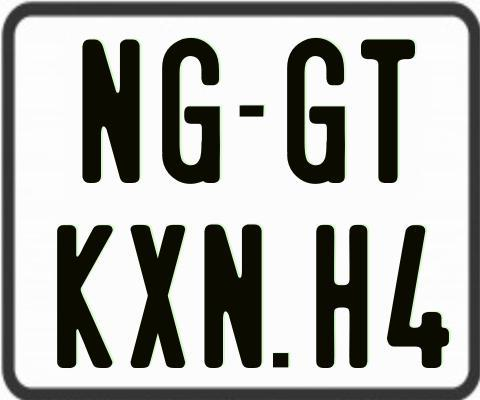4: (385, 222, 453, 370)
G: (162, 37, 222, 186), (286, 36, 346, 183)
H: (313, 225, 364, 371)
K: (56, 223, 117, 369)
N: (202, 223, 264, 371), (82, 37, 141, 183)
T: (361, 38, 415, 186)
X: (128, 225, 188, 371)
